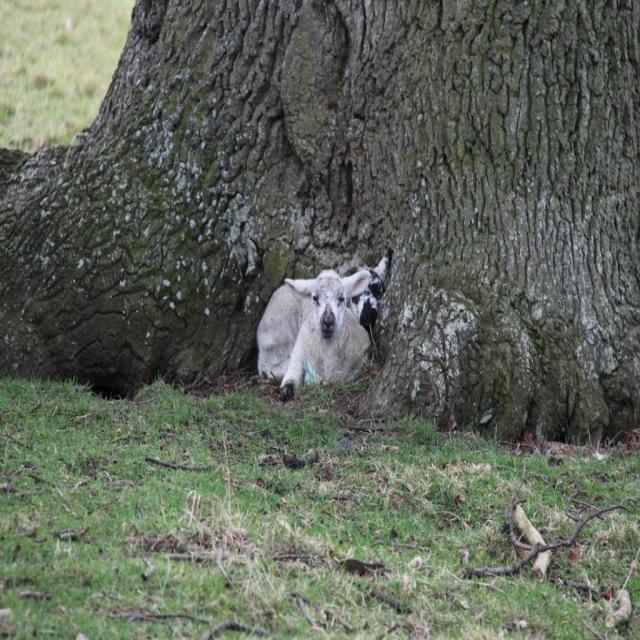Goat: (256, 249, 390, 399)
